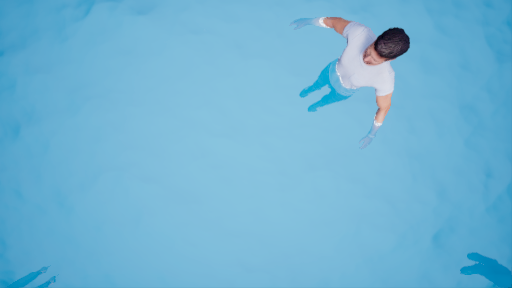person: (300, 13, 411, 143)
